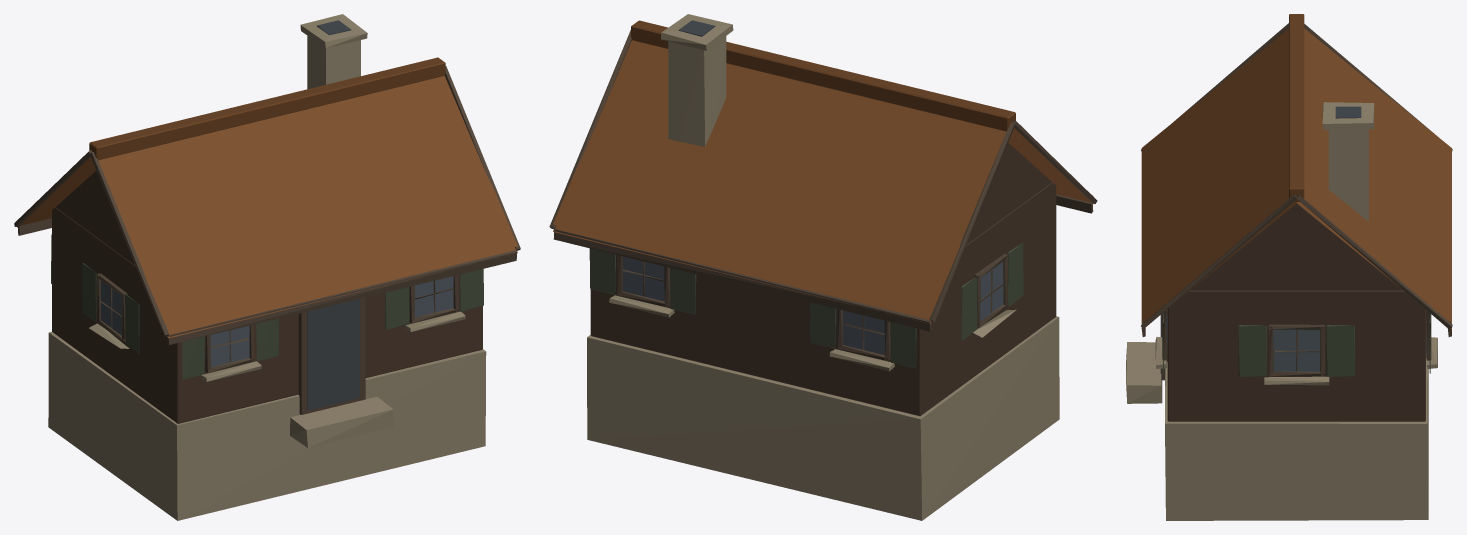
The model's file is log-cabin-lod1.glb.
The picture shows the model from 3 angles, left to right: view 1: azimuth 30°, elevation 25°; view 2: azimuth 150°, elevation 25°; view 3: azimuth 270°, elevation 25°; orthographic projection. The views are drawn at different scales.
Size of the model in its own units: 8.14 by 8.06 by 6.32.
